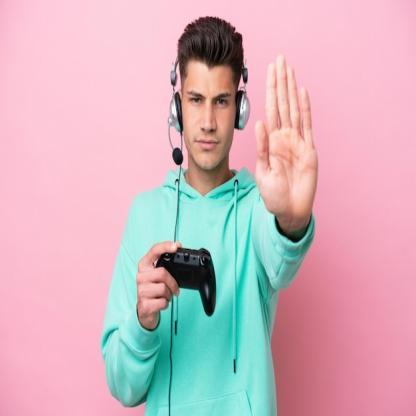stop: (252, 52, 318, 225)
